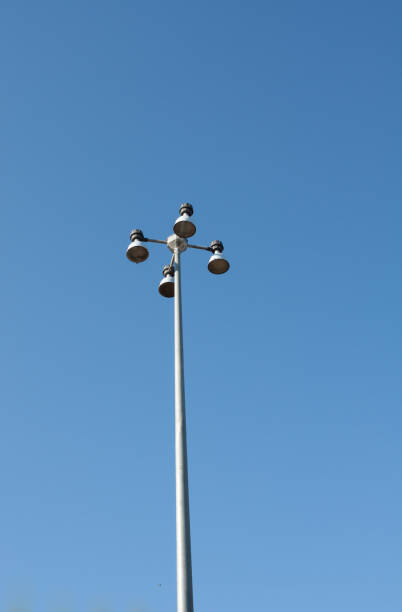light_pole: (168, 291, 196, 612)
